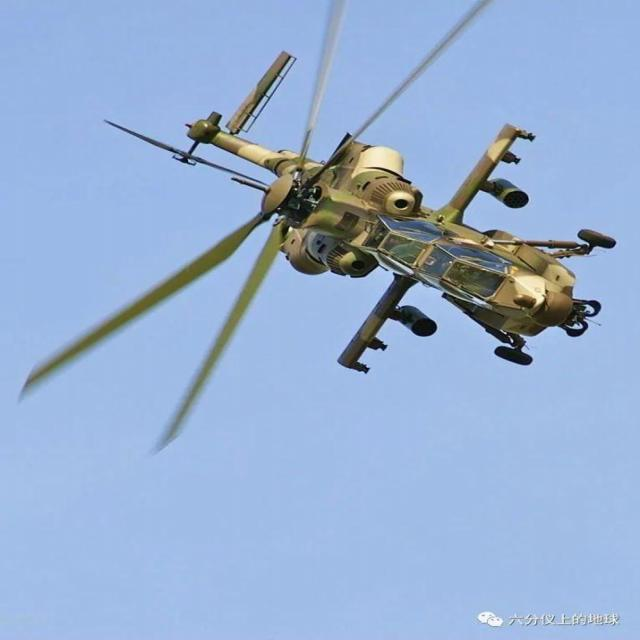MIL_HELO: (12, 4, 640, 462)
